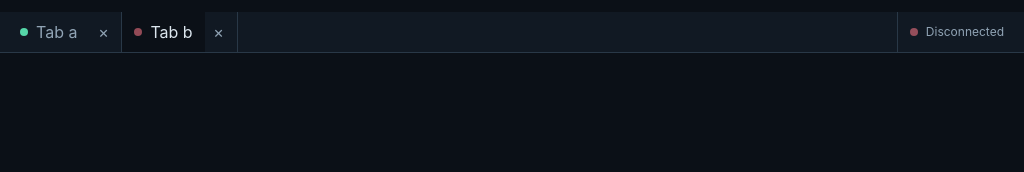
it: TerminalWorkspace › switches the right-edge status with the active session
The width and height of the screenshot is (1024, 172).
Expected: the element with test id "active-session-status" reads "Disconnected", [926,24,1004,39]
Click the tab "Tab a": point(49, 32) [8,12,89,52]
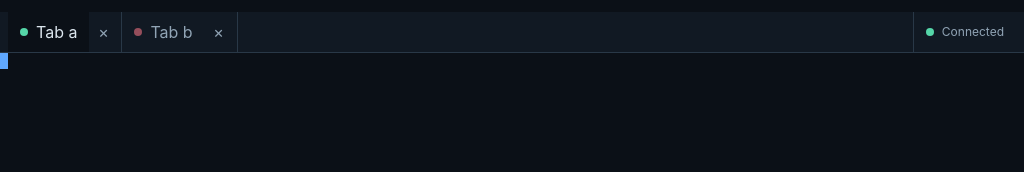
Expected: the element with test id "active-session-status" reads "Connected", [942,24,1004,39]
